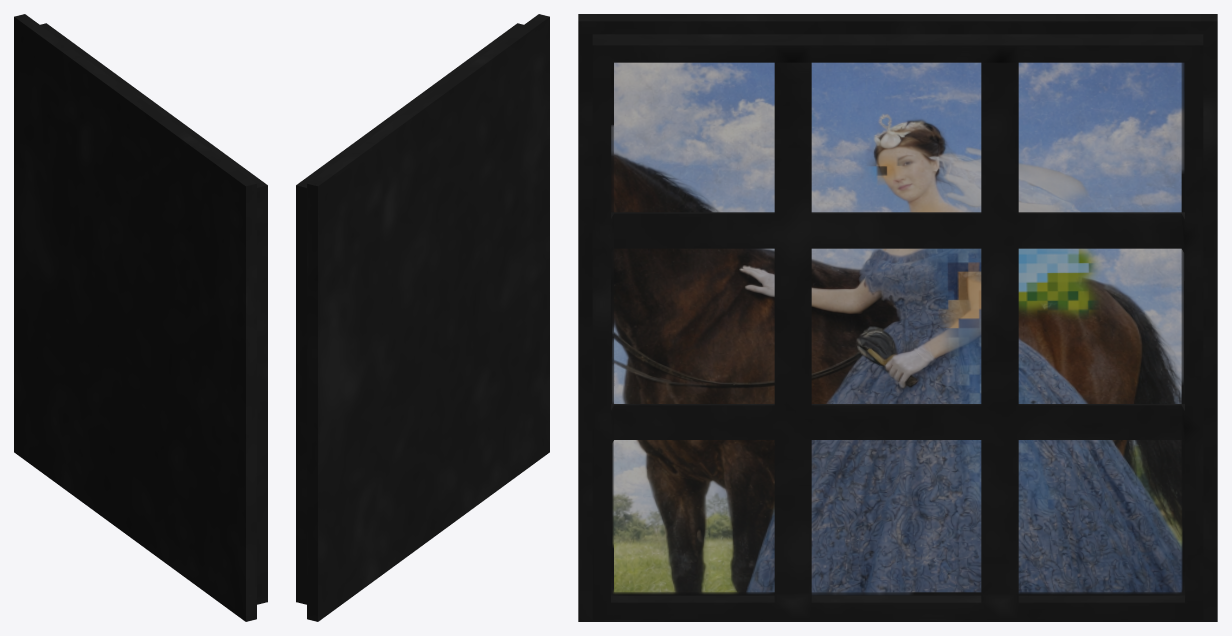
Rendered from PBR - Metallic Roughness.glb.
3 views of the same model, side by side, from view 1: azimuth 30°, elevation 25°; view 2: azimuth 150°, elevation 25°; view 3: azimuth 270°, elevation 25° (orthographic). The views are drawn at different scales.
Parts seen in each view (by area): view 1: window; view 2: window; view 3: window.
Part boxes in pixels (x1,y1,x2,y2): window: (14,14,267,621); window: (296,14,549,621); window: (578,14,1217,621).
Bounding box in the file's own units: 0.1317 × 2.01 × 1.94.
Materials: 1 (1 with a texture image).
